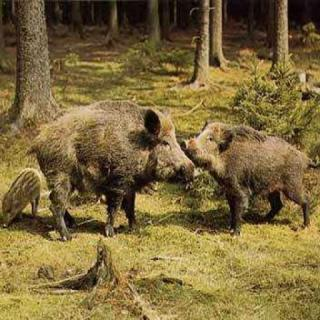Pig: (34, 88, 209, 238), (185, 122, 320, 249)
